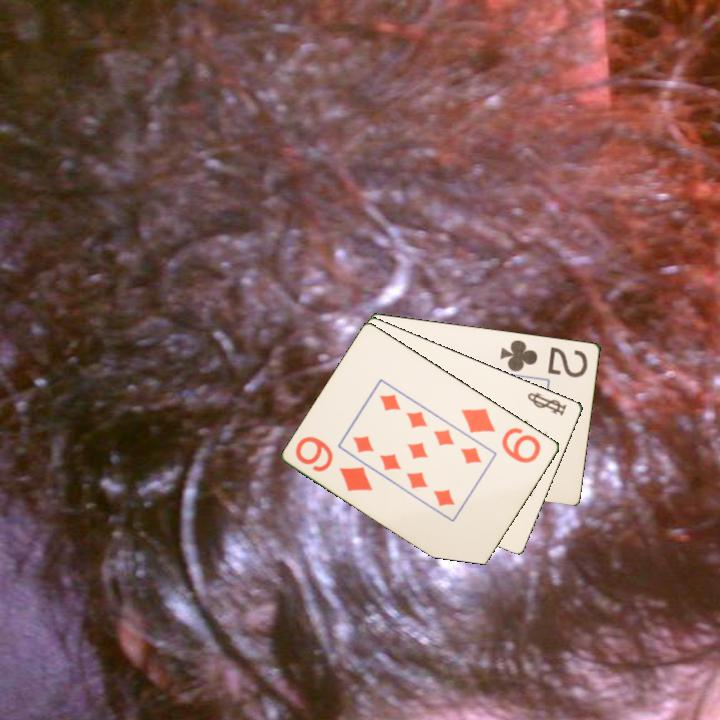2c: (497, 336, 591, 380)
9d: (458, 404, 544, 466), (292, 432, 376, 495)
JK: (524, 388, 570, 418)
